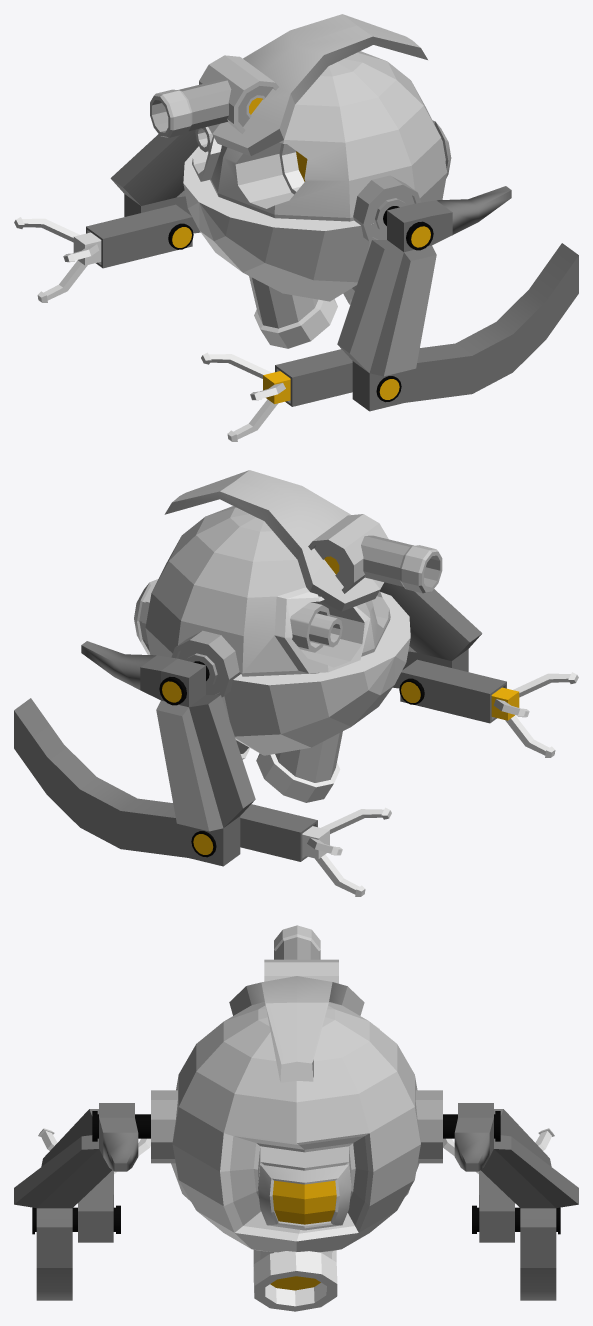
Rendered from COLORED_BIG_BOY.fbx.
3 renders of one model, top to bottom at view 1: azimuth 30°, elevation 25°; view 2: azimuth 150°, elevation 25°; view 3: azimuth 270°, elevation 25°, orthographic. The views are drawn at different scales.
Parts seen in each view (by area): view 1: pasted__pSphere16; view 2: pasted__pSphere16; view 3: pasted__pSphere16.
Boxes of the visible parts, x1,y1,x2,y2 form: pasted__pSphere16: [14, 14, 578, 441]; pasted__pSphere16: [14, 470, 578, 896]; pasted__pSphere16: [14, 925, 578, 1311].
Bounding box in the file's own units: 5.86 × 5.18 × 8.41.
